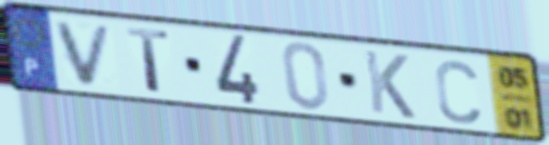0: (278, 40, 331, 113)
4: (211, 33, 262, 107)
C: (431, 56, 484, 126)
K: (360, 47, 419, 122)
T: (124, 25, 174, 96)
V: (52, 19, 117, 89)
